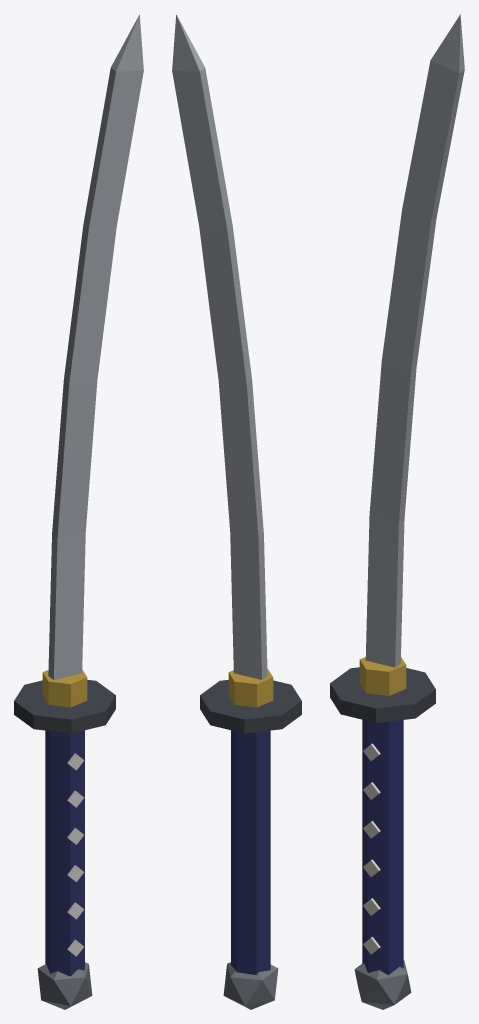
Rendered from weapon_greatsword.glb.
The picture shows the model from 3 angles, left to right: view 1: azimuth 30°, elevation 25°; view 2: azimuth 150°, elevation 25°; view 3: azimuth 330°, elevation 25°; orthographic projection. The views are drawn at different scales.
Visible parts, largest first — view 1: macaque_weapon_greatsword; view 2: macaque_weapon_greatsword; view 3: macaque_weapon_greatsword.
Part boxes in pixels (x1=…): macaque_weapon_greatsword: x1=14, y1=15, x2=143, y2=1009; macaque_weapon_greatsword: x1=172, y1=15, x2=301, y2=1009; macaque_weapon_greatsword: x1=330, y1=14, x2=464, y2=1009.
Size of the model in its own units: 0.1581 by 1.26 by 0.1109.
